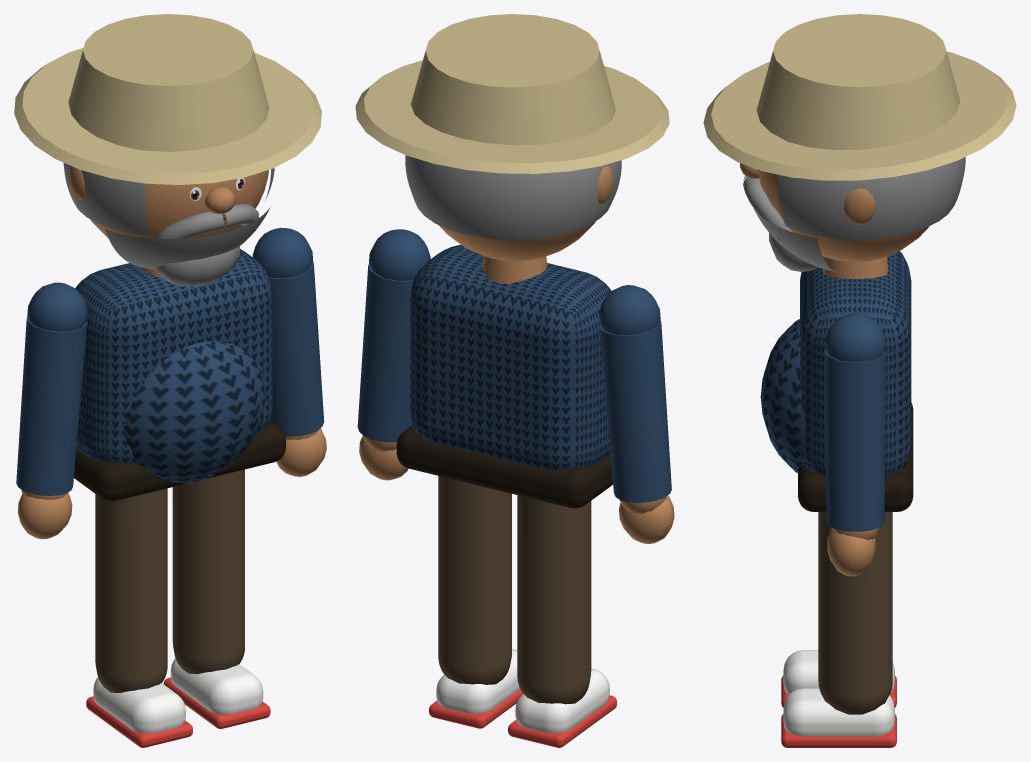
File: kisi-balikci.glb
3 renders of one model, left to right at view 1: azimuth 30°, elevation 25°; view 2: azimuth 150°, elevation 25°; view 3: azimuth 270°, elevation 25°, orthographic. The views are drawn at different scales.
Visible parts, largest first — view 1: bas, govde, bacakL, bacakR, kolL, kolR; view 2: bas, govde, bacakL, bacakR, kolL, kolR; view 3: bas, govde, bacakR, kolR, bacakL.
Boxes of the visible parts, <box> form: bas: <box>14,14,321,286</box>; govde: <box>74,249,285,501</box>; bacakL: <box>86,488,192,747</box>; bacakR: <box>163,469,270,728</box>; kolL: <box>16,282,87,539</box>; kolR: <box>252,227,326,476</box>; bas: <box>355,14,669,260</box>; govde: <box>396,244,612,508</box>; bacakL: <box>508,495,616,747</box>; bacakR: <box>429,476,522,728</box>; kolL: <box>598,285,674,543</box>; kolR: <box>357,229,430,480</box>; bas: <box>703,14,1016,271</box>; govde: <box>760,251,913,511</box>; bacakR: <box>781,512,896,747</box>; kolR: <box>824,313,886,576</box>; bacakL: <box>781,650,896,707</box>.
Bounding box in the file's own units: 0.8627 × 1.78 × 0.7586.
Materials: 11 (2 with a texture image).
